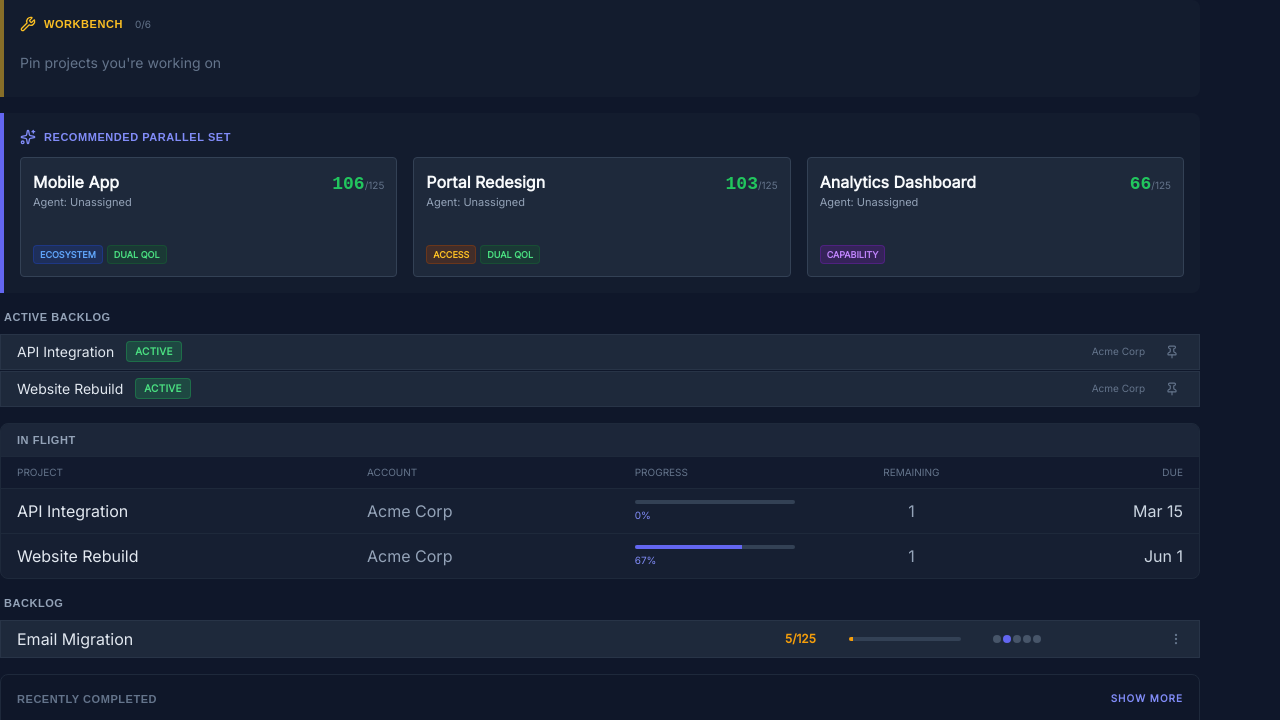
Test: ProjectDigestView › completed section has expand/collapse
The width and height of the screenshot is (1280, 720).
Step 1. Click the button "Show more" → (1147, 699), box 1111,691 -> 1183,706
(page scrolled)
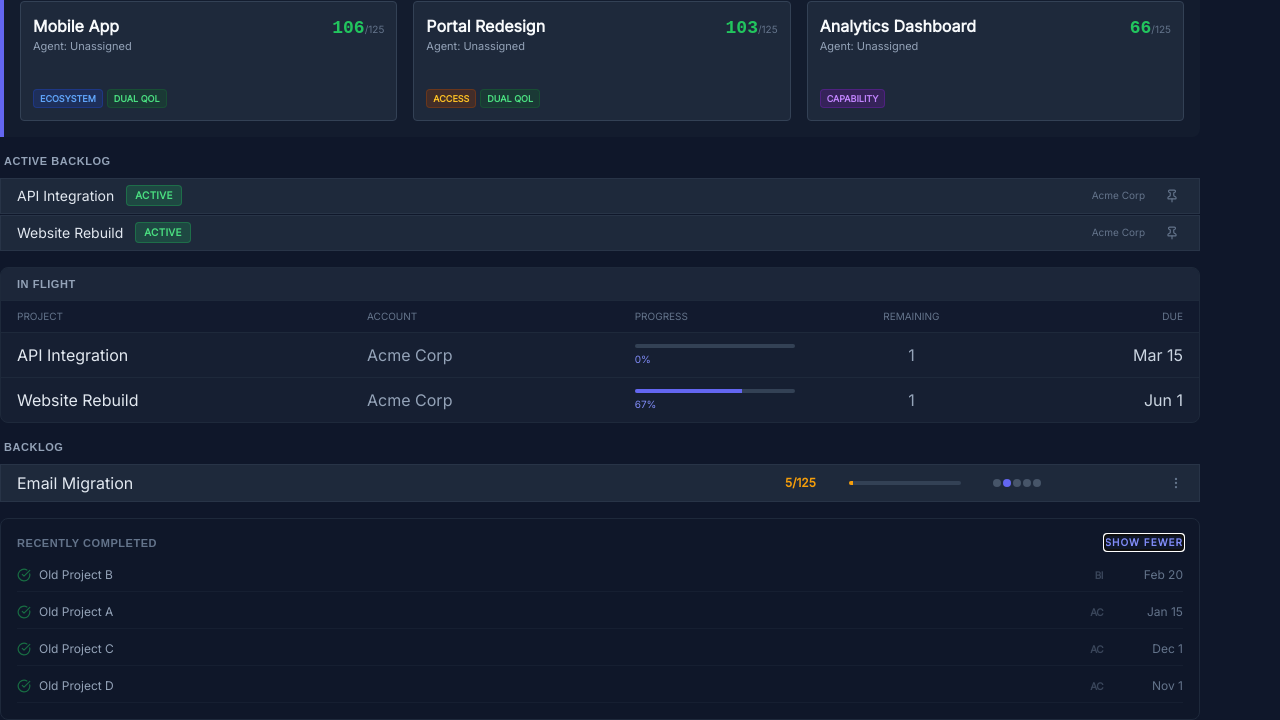
Result: the text "Old Project D" is shown at 39,678 -> 114,694
